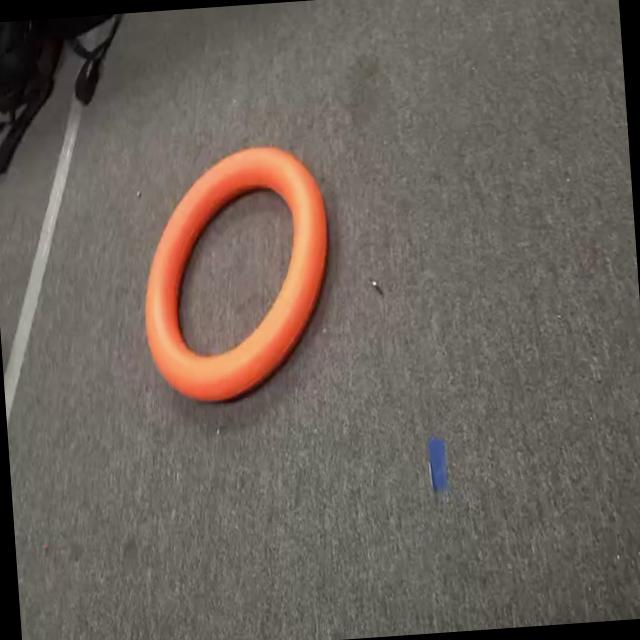note: (123, 126, 357, 430)
